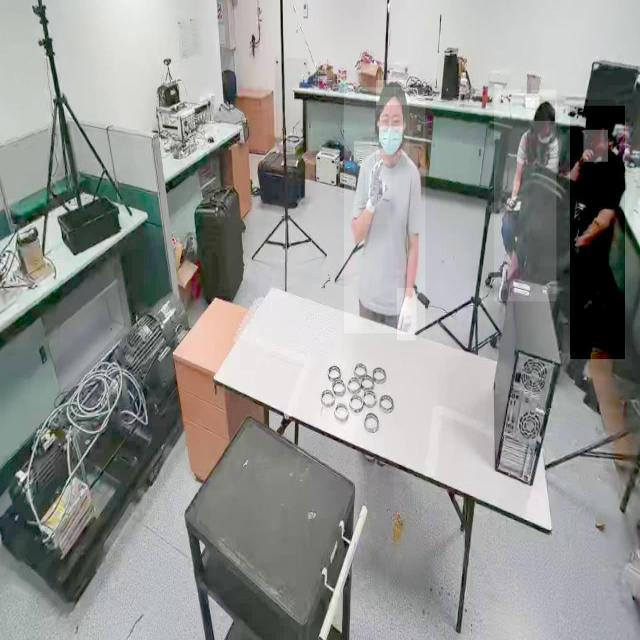face_mask: (376, 97, 410, 155)
face_nomask: (584, 130, 608, 162)
hand_glove: (365, 161, 391, 224), (397, 288, 417, 341)
hand_noglove: (578, 145, 594, 168)
head_nohelmet: (376, 80, 407, 106), (585, 100, 616, 122), (535, 100, 555, 122)
person: (344, 87, 426, 334), (570, 106, 626, 360), (494, 90, 557, 302)
